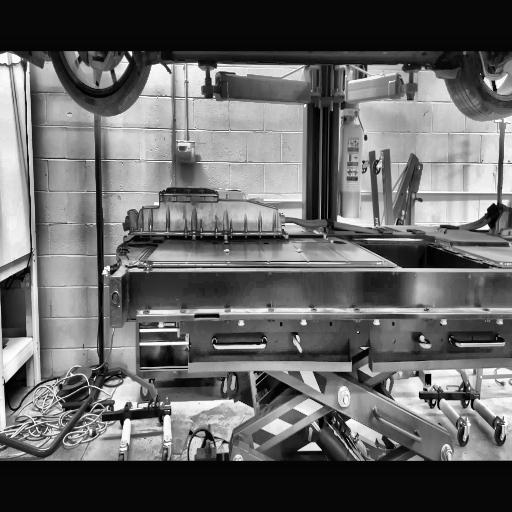b_casing: (92, 164, 512, 390)
bms_unit: (119, 185, 288, 248)
